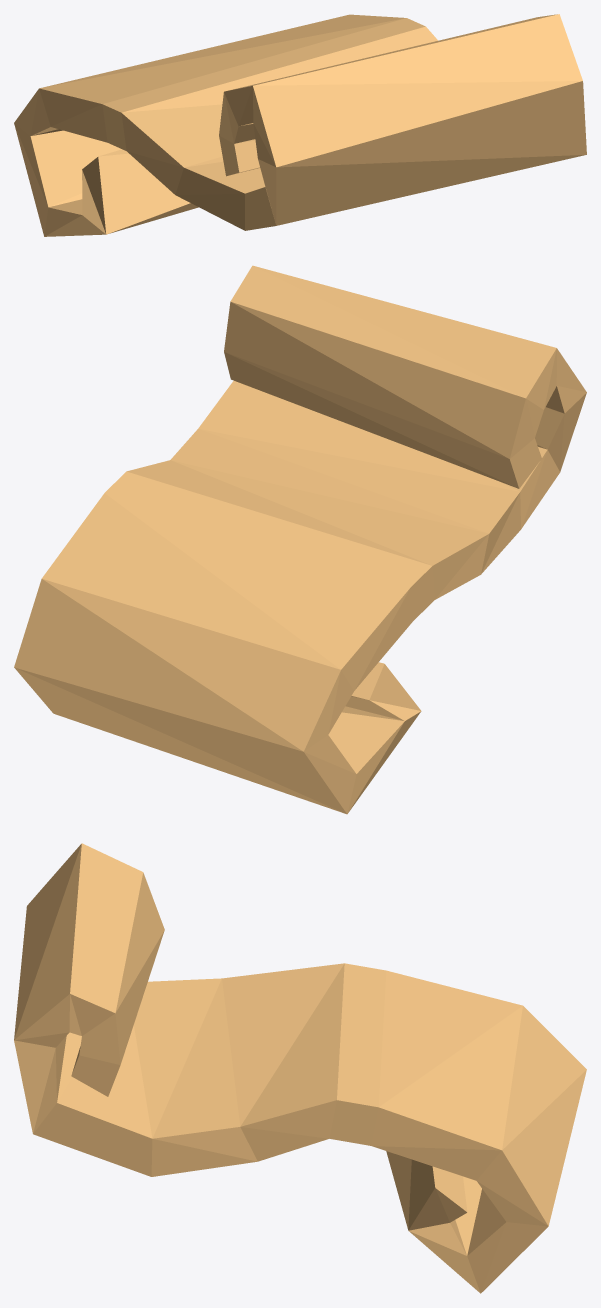
File: Artifact_Scroll.fbx
3 renders of one model, top to bottom at view 1: azimuth 30°, elevation 25°; view 2: azimuth 150°, elevation 25°; view 3: azimuth 270°, elevation 25°, orthographic. The views are drawn at different scales.
Parts seen in each view (by area): view 1: imagetostl_mesh0; view 2: imagetostl_mesh0; view 3: imagetostl_mesh0.
Part boxes in pixels (x1,y1,x2,y2): imagetostl_mesh0: (14, 14, 586, 236); imagetostl_mesh0: (14, 265, 586, 814); imagetostl_mesh0: (14, 843, 586, 1293).
Bounding box in the file's own units: 36.92 × 32.89 × 53.95.
